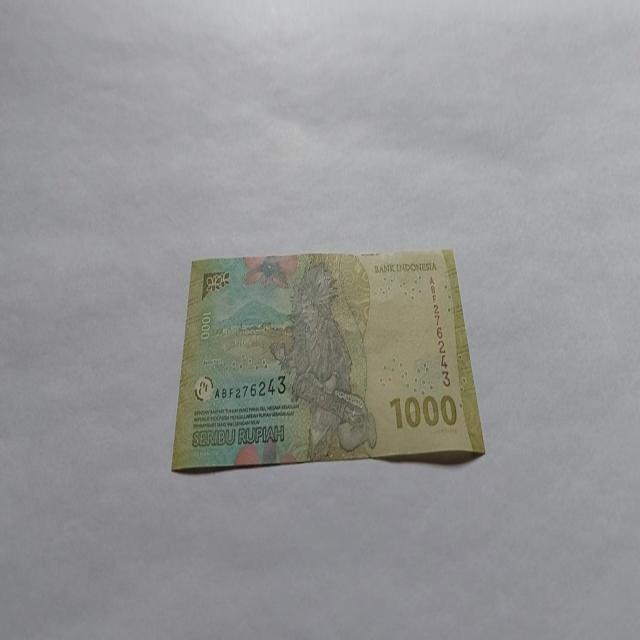seribu rupiah kertas: (170, 246, 486, 473)
